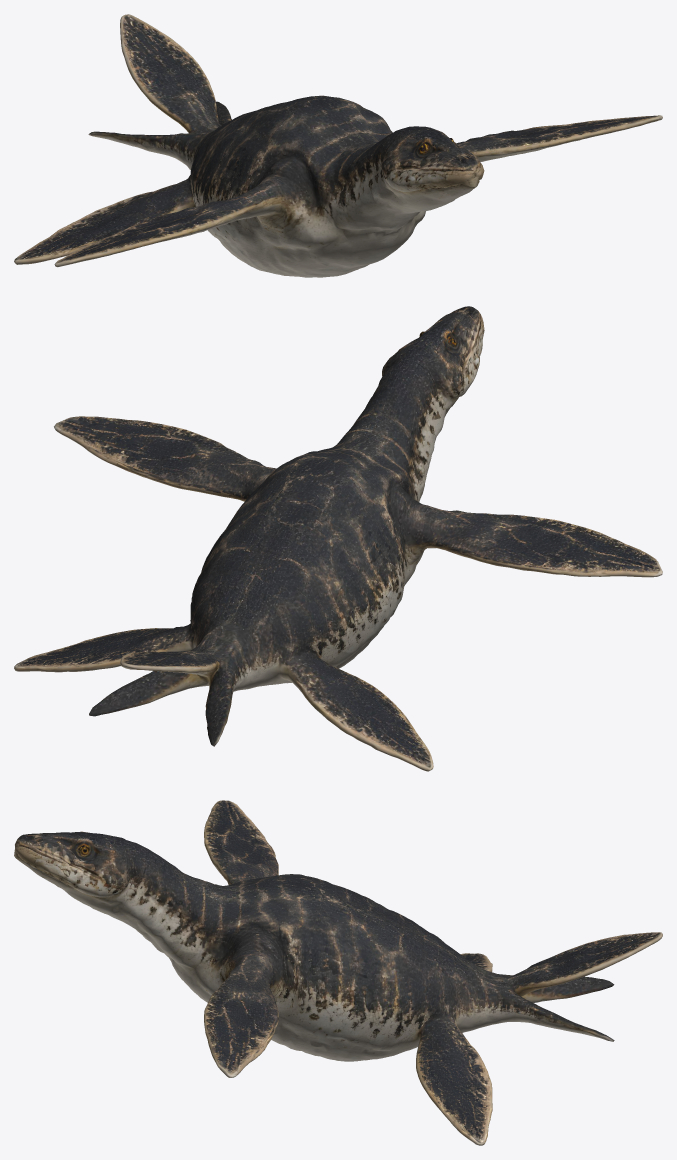
Rendered from rhaeticosaurus.raw.glb.
3 views of the same model, one above another, from view 1: azimuth 30°, elevation 25°; view 2: azimuth 150°, elevation 25°; view 3: azimuth 270°, elevation 25° (orthographic). The views are drawn at different scales.
Parts seen in each view (by area): view 1: tripo_node_fc7ac57e-a434-417d-9c85-cd53116e6664; view 2: tripo_node_fc7ac57e-a434-417d-9c85-cd53116e6664; view 3: tripo_node_fc7ac57e-a434-417d-9c85-cd53116e6664.
Boxes of the visible parts, x1=… form: tripo_node_fc7ac57e-a434-417d-9c85-cd53116e6664: x1=14, y1=14, x2=662, y2=277; tripo_node_fc7ac57e-a434-417d-9c85-cd53116e6664: x1=14, y1=306, x2=662, y2=771; tripo_node_fc7ac57e-a434-417d-9c85-cd53116e6664: x1=14, y1=800, x2=662, y2=1145.
Size of the model in its own units: 1 by 0.3713 by 0.9977.
Materials: 1 (1 with a texture image).
